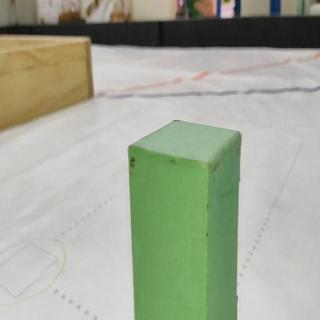greenbox: (125, 117, 244, 320)
